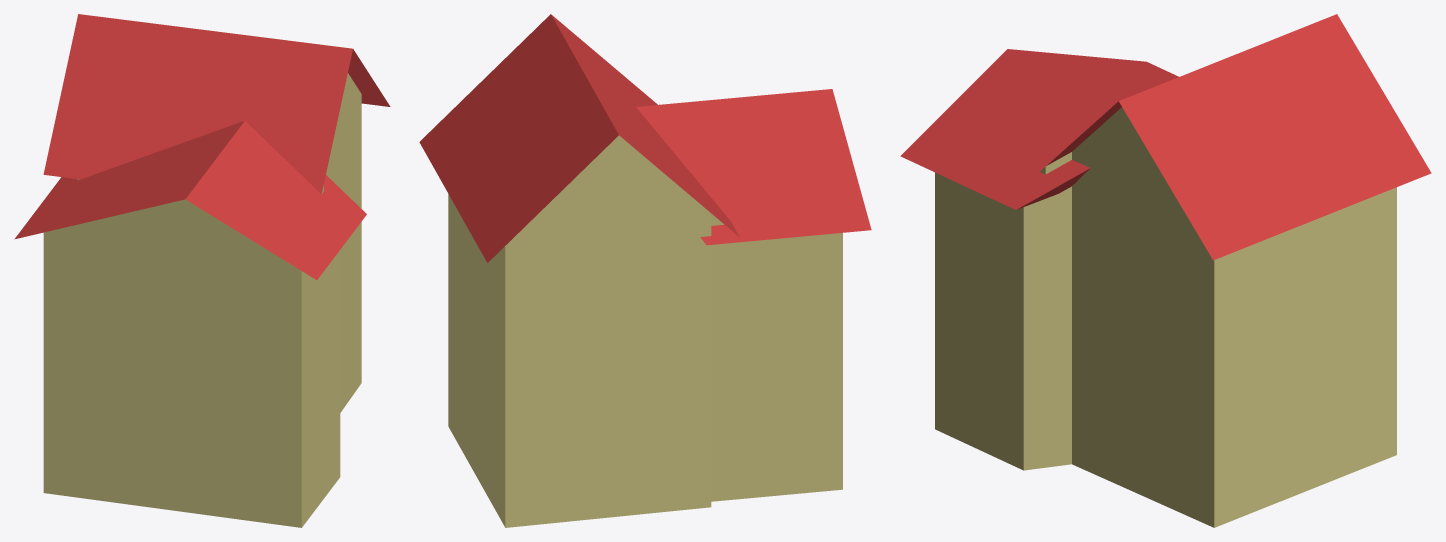
3 views of the same model, side by side, from view 1: azimuth 30°, elevation 25°; view 2: azimuth 150°, elevation 25°; view 3: azimuth 270°, elevation 25° (orthographic). The views are drawn at different scales.
Visible parts, largest first — view 1: group_6, group_8, group_3, group_10, group_9, group_5; view 2: group_10, group_6, group_8, group_3, group_9, group_5; view 3: group_10, group_8, group_6, group_3, group_9, group_5.
Boxes of the visible parts, <box> form: group_6: <box>43,199,340,527</box>; group_8: <box>43,14,390,193</box>; group_3: <box>14,121,366,279</box>; group_10: <box>77,73,361,412</box>; group_9: <box>44,14,387,178</box>; group_5: <box>16,175,366,278</box>; group_10: <box>448,135,723,527</box>; group_6: <box>700,233,842,508</box>; group_8: <box>419,14,739,262</box>; group_3: <box>636,89,871,245</box>; group_9: <box>420,15,739,259</box>; group_5: <box>703,89,866,244</box>; group_10: <box>1040,107,1396,527</box>; group_8: <box>1046,14,1431,260</box>; group_6: <box>935,168,1090,472</box>; group_3: <box>900,49,1178,209</box>; group_9: <box>1080,15,1428,258</box>; group_5: <box>902,49,1177,209</box>.
Bounding box in the file's own units: 15.05 × 16.2 × 13.42.
